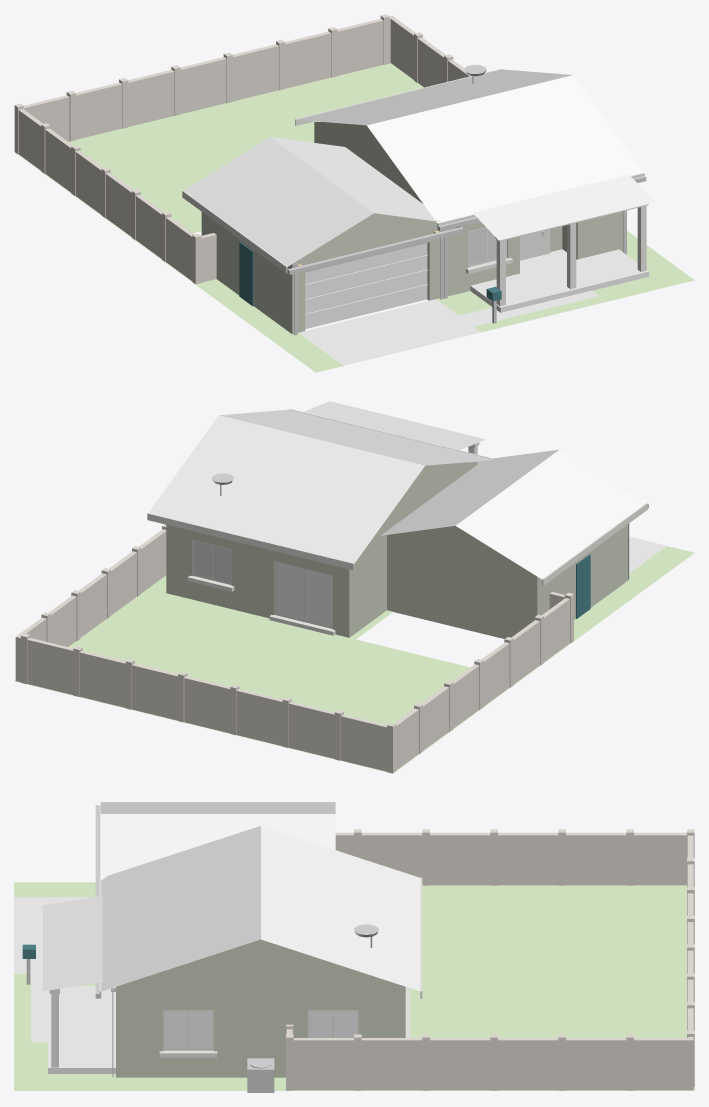
Rendered from house_ranch58.glb.
3 views of the same model, one above another, from view 1: azimuth 30°, elevation 25°; view 2: azimuth 150°, elevation 25°; view 3: azimuth 270°, elevation 25° (orthographic). The views are drawn at different scales.
Parts seen in each view (by area): view 1: house_ranch58_Roof, house_ranch58_Walls2, house_ranch58_Lawn, house_ranch58_Walls, house_ranch58_Site, house_ranch58_Doors, house_ranch58_Trim, house_ranch58_Details, house_ranch58_Frames, house_ranch58_Accent, house_ranch58_WindowsLit; view 2: house_ranch58_Roof, house_ranch58_Walls2, house_ranch58_Lawn, house_ranch58_Walls, house_ranch58_Trim, house_ranch58_Glass, house_ranch58_WindowsLit, house_ranch58_Frames, house_ranch58_Accent, house_ranch58_Site; view 3: house_ranch58_Roof, house_ranch58_Lawn, house_ranch58_Walls2, house_ranch58_Walls, house_ranch58_Site, house_ranch58_Glass, house_ranch58_Details, house_ranch58_Trim, house_ranch58_Frames.
Boxes of the visible parts, x1=… form: house_ranch58_Roof: x1=184, y1=69, x2=654, y2=266; house_ranch58_Walls2: x1=14, y1=14, x2=470, y2=284; house_ranch58_Lawn: x1=14, y1=63, x2=694, y2=372; house_ranch58_Walls: x1=201, y1=122, x2=623, y2=334; house_ranch58_Site: x1=299, y1=249, x2=649, y2=365; house_ranch58_Doors: x1=305, y1=243, x2=427, y2=328; house_ranch58_Trim: x1=182, y1=68, x2=648, y2=306; house_ranch58_Details: x1=287, y1=64, x2=646, y2=335; house_ranch58_Frames: x1=468, y1=227, x2=550, y2=267; house_ranch58_Accent: x1=239, y1=242, x2=501, y2=306; house_ranch58_WindowsLit: x1=469, y1=228, x2=496, y2=264; house_ranch58_Roof: x1=148, y1=401, x2=645, y2=579; house_ranch58_Walls2: x1=15, y1=524, x2=573, y2=773; house_ranch58_Lawn: x1=14, y1=546, x2=694, y2=773; house_ranch58_Walls: x1=166, y1=462, x2=627, y2=638; house_ranch58_Trim: x1=147, y1=409, x2=647, y2=635; house_ranch58_Glass: x1=276, y1=562, x2=331, y2=626; house_ranch58_WindowsLit: x1=194, y1=541, x2=230, y2=582; house_ranch58_Frames: x1=193, y1=540, x2=332, y2=628; house_ranch58_Accent: x1=576, y1=554, x2=590, y2=618; house_ranch58_Site: x1=629, y1=536, x2=666, y2=572; house_ranch58_Roof: x1=43, y1=803, x2=420, y2=991; house_ranch58_Lawn: x1=14, y1=882, x2=694, y2=1090; house_ranch58_Walls2: x1=286, y1=829, x2=694, y2=1090; house_ranch58_Walls: x1=116, y1=939, x2=405, y2=1077; house_ranch58_Site: x1=14, y1=897, x2=115, y2=1073; house_ranch58_Glass: x1=165, y1=1011, x2=356, y2=1048; house_ranch58_Details: x1=26, y1=805, x2=378, y2=1092; house_ranch58_Trim: x1=49, y1=802, x2=422, y2=1067; house_ranch58_Frames: x1=163, y1=1010, x2=358, y2=1050.
Size of the model in its own units: 58.51 by 18.77 by 80.
